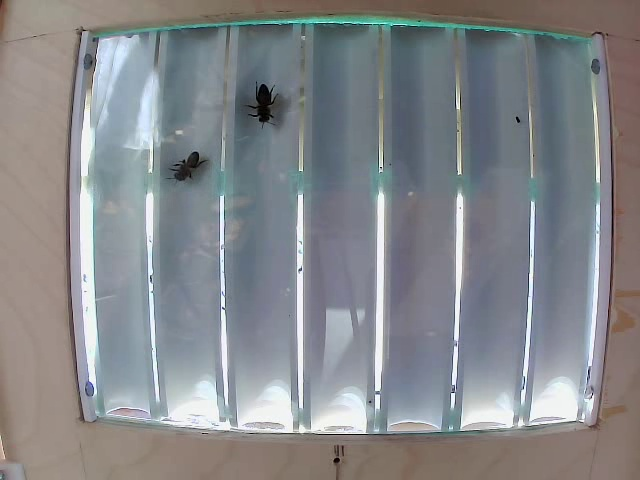bee: (166, 146, 223, 192), (247, 82, 285, 141)
